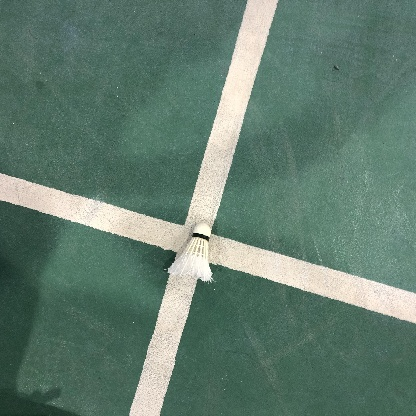ball_single: (168, 223, 212, 282)
